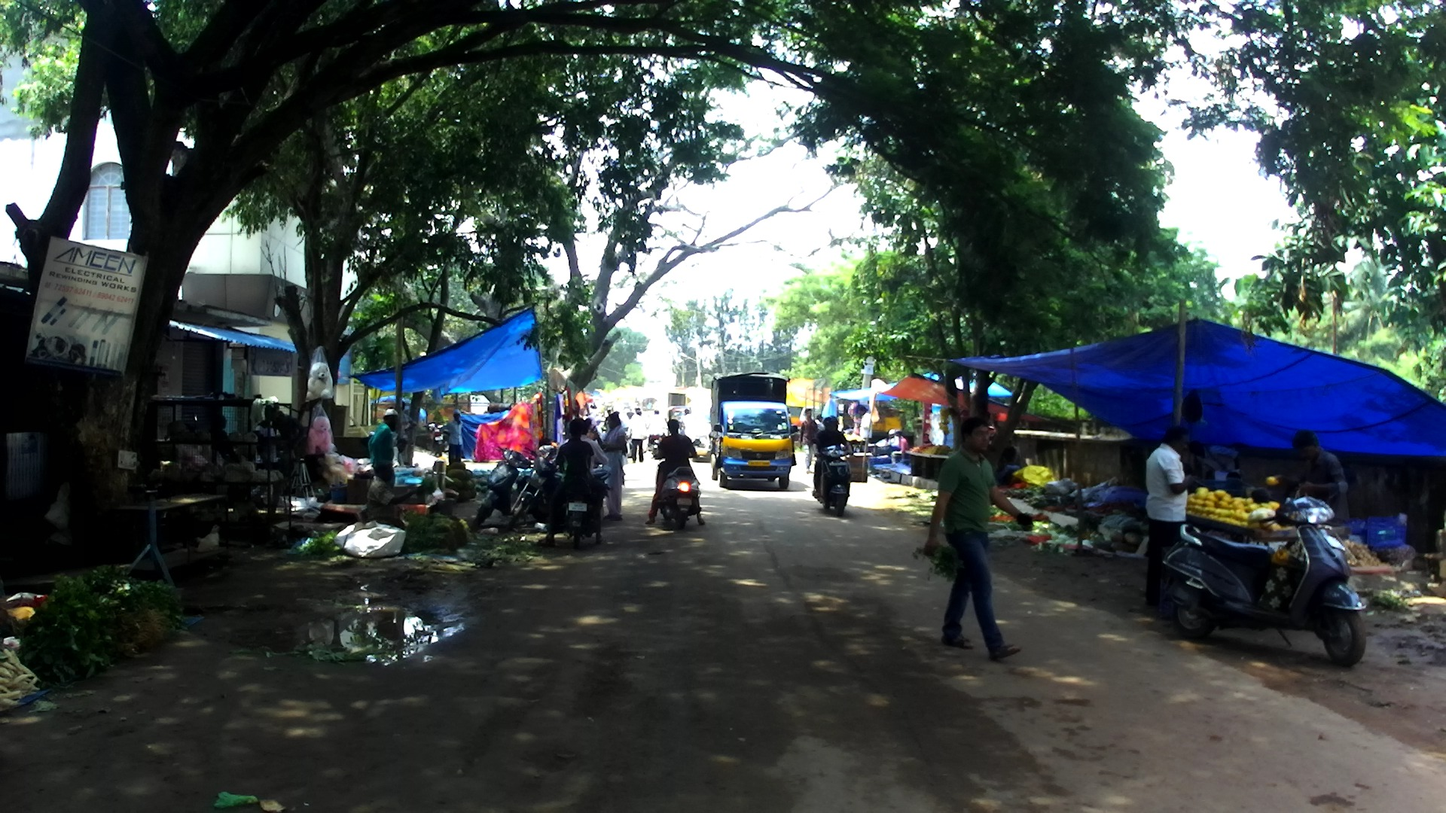car: (690, 418, 715, 462)
motorcycle: (1159, 481, 1368, 668), (502, 452, 614, 535), (471, 446, 564, 528), (651, 439, 702, 532), (560, 468, 603, 550), (813, 437, 853, 517), (423, 418, 450, 458), (648, 434, 664, 462)
person: (923, 416, 1034, 659), (1143, 422, 1198, 613), (1264, 429, 1353, 540), (364, 458, 431, 531), (597, 411, 630, 523), (367, 406, 401, 495), (1185, 438, 1244, 487), (385, 400, 417, 461), (797, 407, 821, 475), (441, 406, 467, 468), (995, 440, 1029, 480), (626, 410, 649, 464), (853, 403, 874, 449), (890, 429, 911, 467), (389, 435, 410, 467), (884, 429, 901, 455), (810, 413, 828, 434), (630, 406, 644, 421)
rider: (535, 417, 604, 547), (644, 418, 706, 526), (811, 414, 853, 499), (555, 416, 609, 480), (644, 408, 669, 437), (680, 408, 699, 440)
truck: (709, 373, 796, 490), (781, 402, 828, 435)
vehicle fallback: (667, 405, 692, 435)
